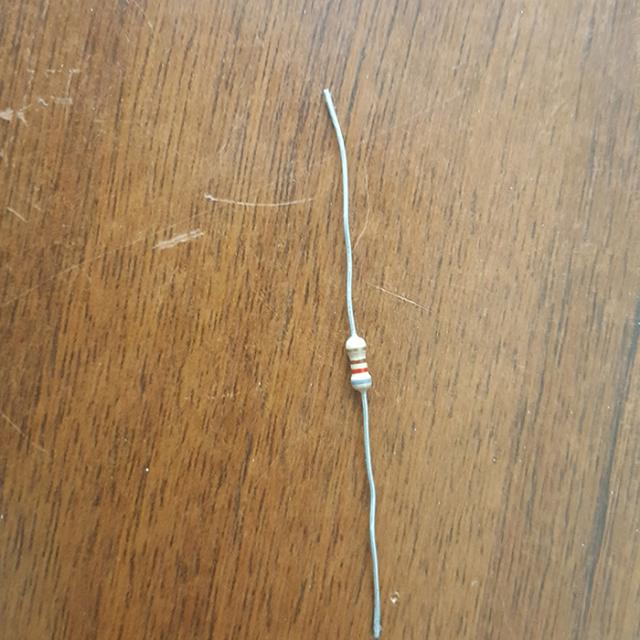brown: (351, 359, 367, 364)
gold: (347, 347, 366, 352)
grey: (352, 379, 372, 384)
red: (351, 368, 368, 374)
resistor: (334, 334, 383, 403)
